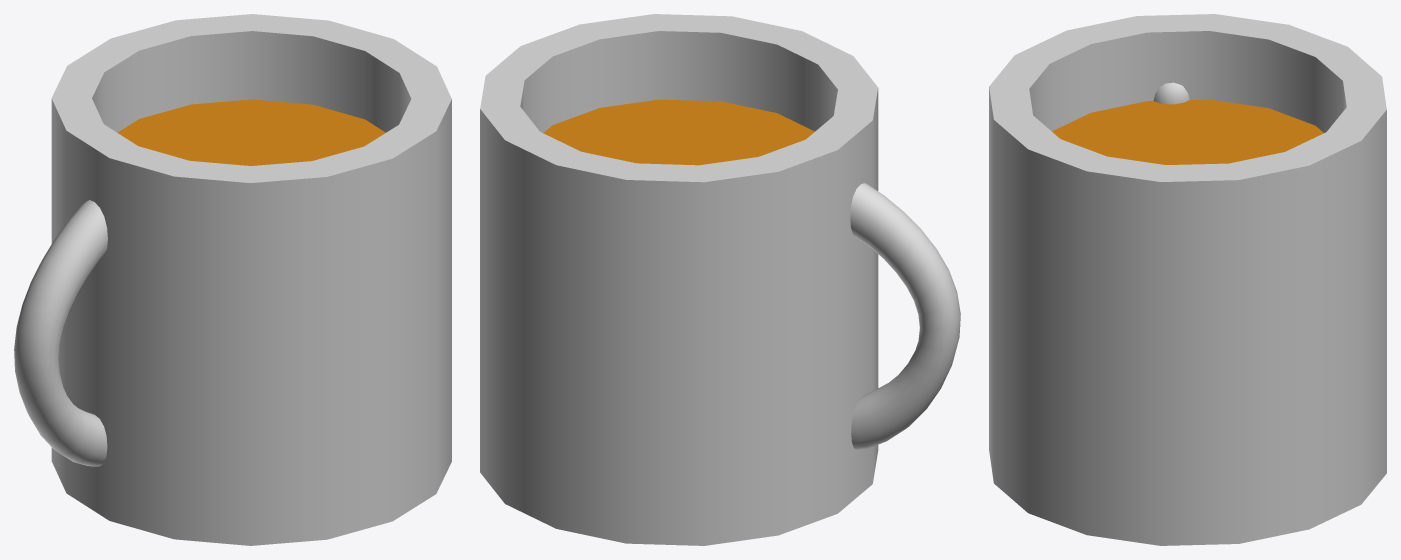
Rendered from drink.glb.
The picture shows the model from 3 angles, left to right: view 1: azimuth 30°, elevation 25°; view 2: azimuth 150°, elevation 25°; view 3: azimuth 270°, elevation 25°; orthographic projection.
Parts seen in each view (by area): view 1: Table Stuff.002, Table Stuff.003; view 2: Table Stuff.002, Table Stuff.003; view 3: Table Stuff.002, Table Stuff.003.
Part boxes in pixels (x1=…): Table Stuff.002: x1=14, y1=14, x2=451, y2=545; Table Stuff.003: x1=117, y1=99, x2=385, y2=165; Table Stuff.002: x1=480, y1=14, x2=960, y2=545; Table Stuff.003: x1=543, y1=99, x2=814, y2=165; Table Stuff.002: x1=989, y1=14, x2=1386, y2=545; Table Stuff.003: x1=1052, y1=99, x2=1323, y2=164.
Bounding box in the file's own units: 0.3918 × 0.3178 × 0.3149.
